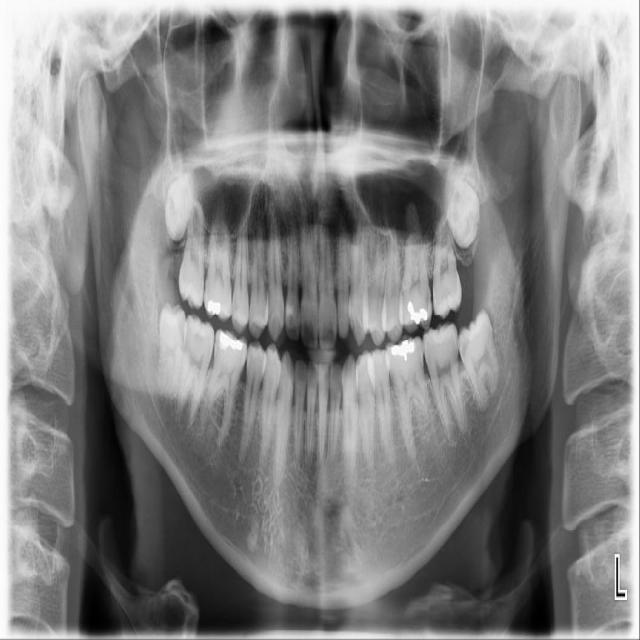Filling: (389, 338, 417, 362), (404, 298, 429, 324), (285, 297, 300, 340), (216, 331, 245, 353)
impacted tooth: (432, 159, 481, 249), (459, 311, 497, 409), (165, 159, 194, 242), (158, 304, 184, 396), (203, 298, 224, 313)
